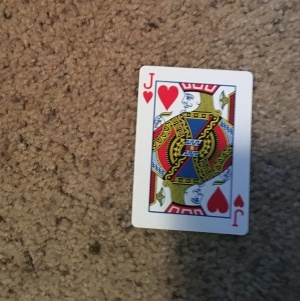card: (130, 65, 255, 236)
